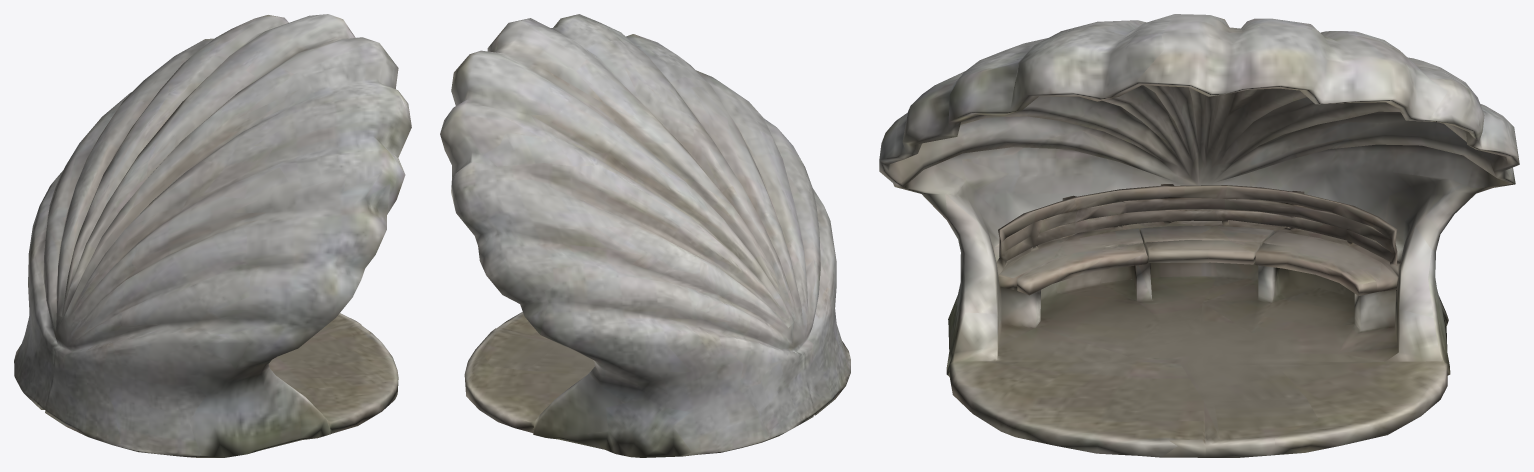
File: zs_muschel.glb
3 views of the same model, side by side, from view 1: azimuth 30°, elevation 25°; view 2: azimuth 150°, elevation 25°; view 3: azimuth 270°, elevation 25° (orthographic). The views are drawn at different scales.
Parts seen in each view (by area): view 1: tripo_node_bfce8676-9fab-4cb3-a38d-d6c63ec6f9ee; view 2: tripo_node_bfce8676-9fab-4cb3-a38d-d6c63ec6f9ee; view 3: tripo_node_bfce8676-9fab-4cb3-a38d-d6c63ec6f9ee.
Boxes of the visible parts, bbox=[...] form: tripo_node_bfce8676-9fab-4cb3-a38d-d6c63ec6f9ee: bbox=[14, 14, 411, 457]; tripo_node_bfce8676-9fab-4cb3-a38d-d6c63ec6f9ee: bbox=[440, 14, 850, 457]; tripo_node_bfce8676-9fab-4cb3-a38d-d6c63ec6f9ee: bbox=[879, 14, 1519, 457].
Size of the model in its own units: 0.8175 by 0.7199 by 1.
1 material, 1 textured.
